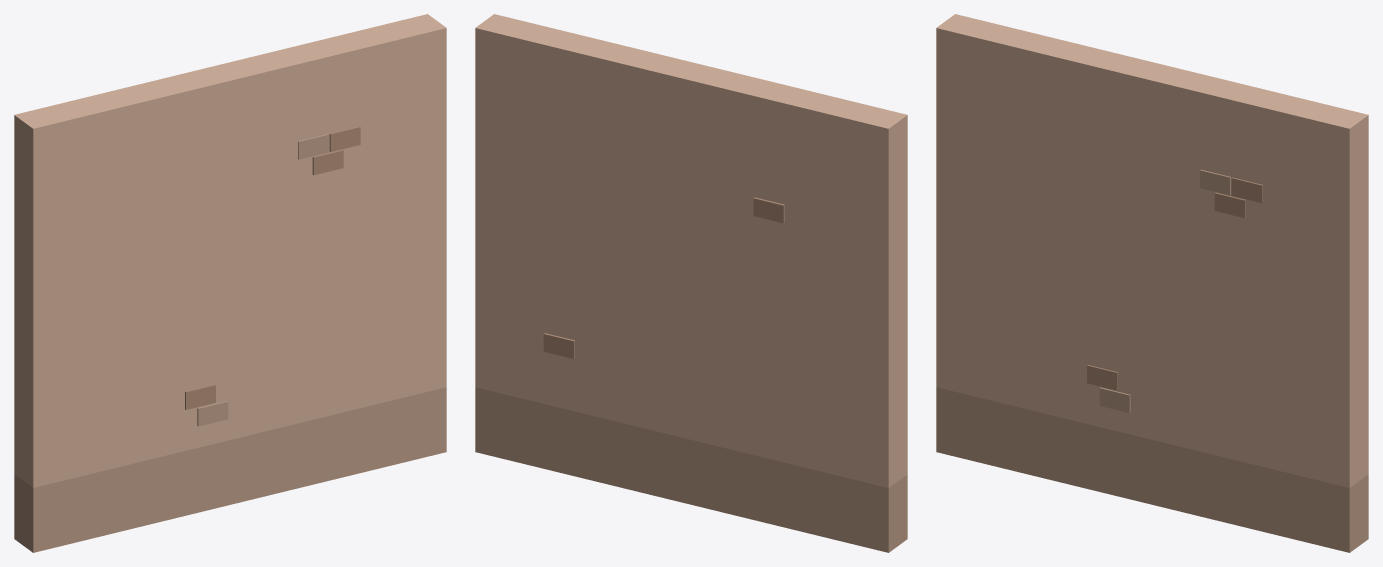
File: Wall_11.fbx
The picture shows the model from 3 angles, left to right: view 1: azimuth 30°, elevation 25°; view 2: azimuth 150°, elevation 25°; view 3: azimuth 330°, elevation 25°; orthographic projection.
Parts seen in each view (by area): view 1: Wall_11; view 2: Wall_11; view 3: Wall_11.
Part boxes in pixels (<box>): Wall_11: <box>14,14,446,552</box>; Wall_11: <box>475,14,907,552</box>; Wall_11: <box>936,14,1368,552</box>.
Bounding box in the file's own units: 500 × 490 × 44.49.
